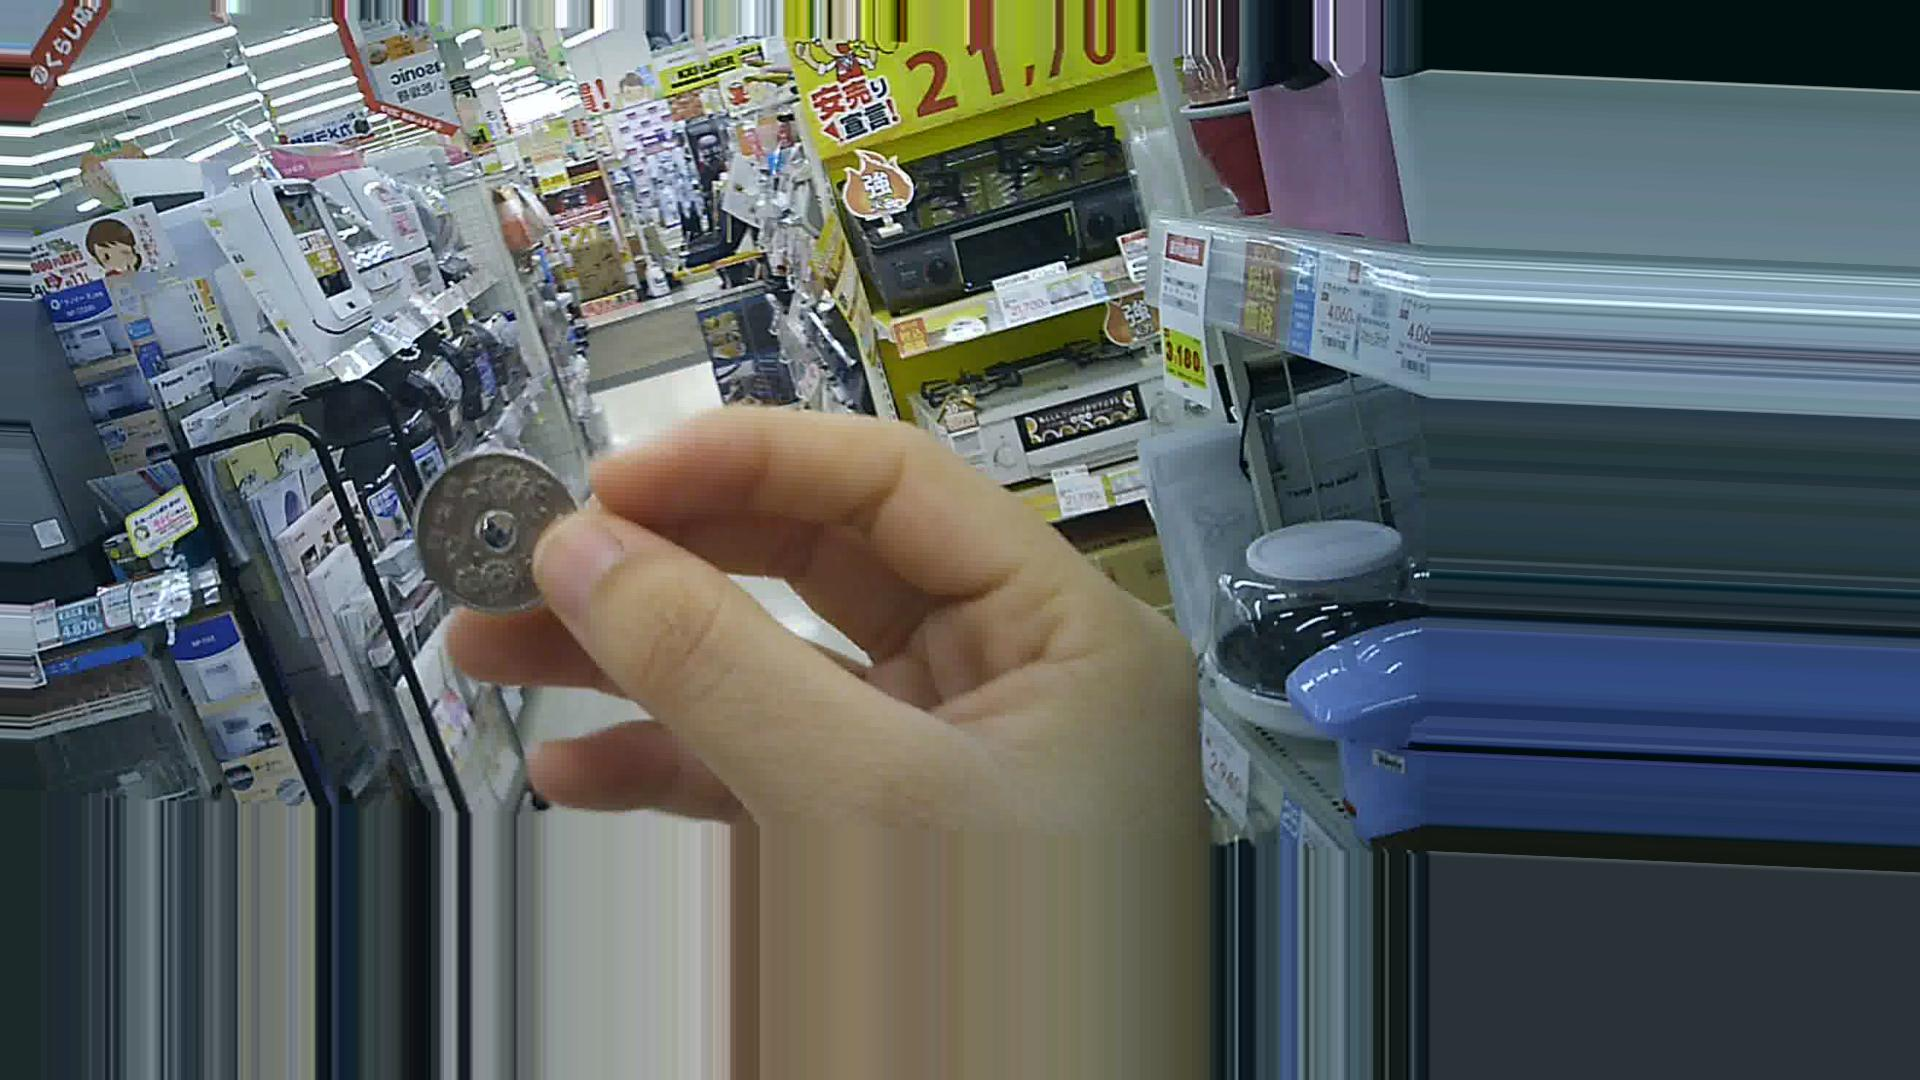50 Yen: (407, 433, 574, 618)
